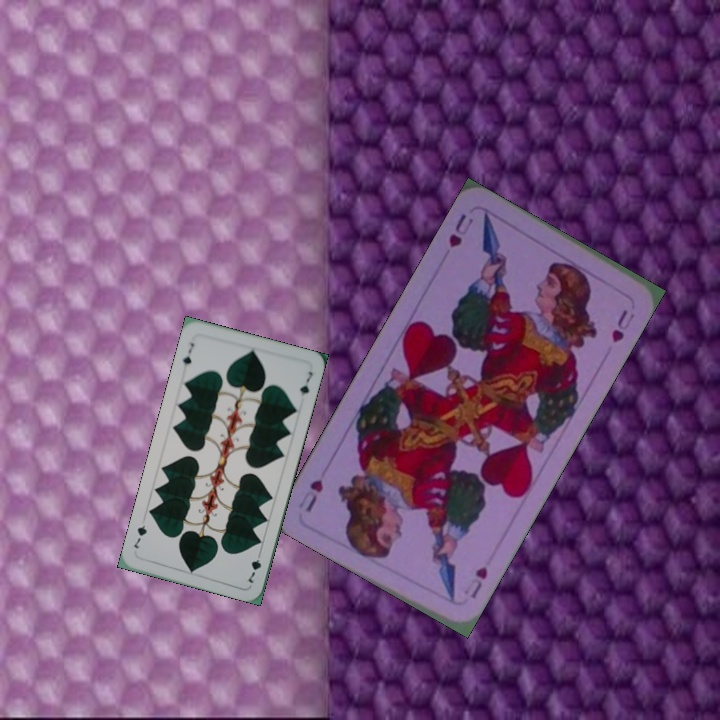G7: (243, 547, 264, 585), (178, 339, 197, 368)
HU: (444, 209, 477, 250), (459, 562, 491, 601)
